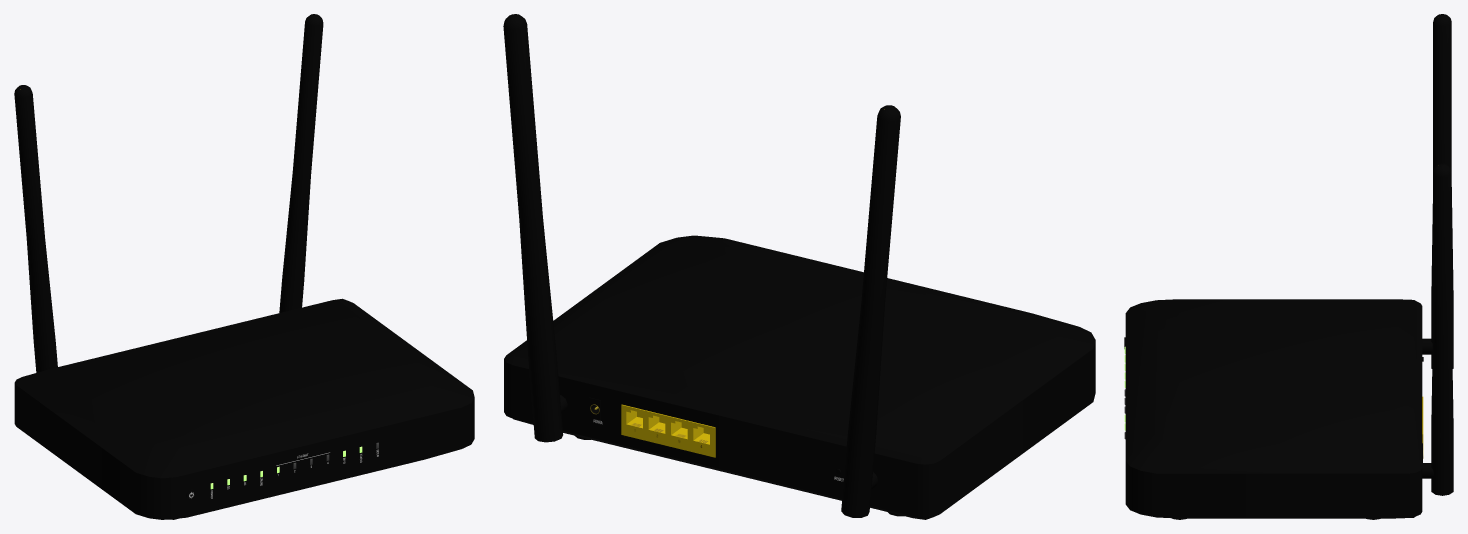
Rendered from rout4.gltf.
3 renders of one model, left to right at view 1: azimuth 30°, elevation 25°; view 2: azimuth 150°, elevation 25°; view 3: azimuth 270°, elevation 25°, orthographic. The views are drawn at different scales.
Parts seen in each view (by area): view 1: Router; view 2: Router; view 3: Router.
Part boxes in pixels (x1=…): Router: x1=14, y1=14, x2=474, y2=519; Router: x1=503, y1=14, x2=1095, y2=519; Router: x1=1124, y1=14, x2=1453, y2=519.
Bounding box in the file's own units: 0.8117 × 0.7915 × 0.6512.
Materials: 1 (1 with a texture image).
